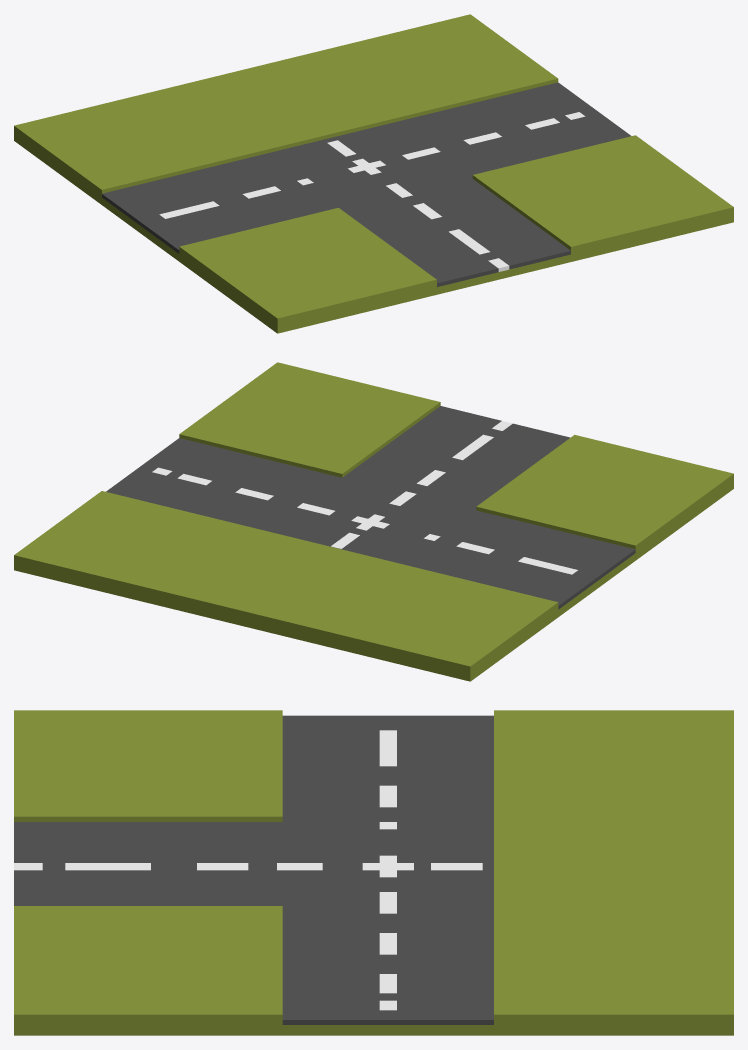
File: map v1.0-0-ugol.obj
3 views of the same model, one above another, from view 1: azimuth 30°, elevation 25°; view 2: azimuth 150°, elevation 25°; view 3: azimuth 270°, elevation 25° (orthographic). The views are drawn at different scales.
Parts seen in each view (by area): view 1: ugol; view 2: ugol; view 3: ugol.
Boxes of the visible parts, bbox=[...] form: ugol: bbox=[14, 14, 733, 333]; ugol: bbox=[14, 362, 733, 681]; ugol: bbox=[14, 710, 733, 1035].
Bounding box in the file's own units: 12.6 × 0.4 × 12.6.
1 material, 1 textured.
